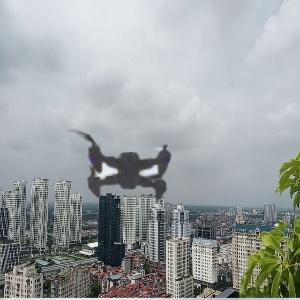drone: (29, 69, 240, 280)
